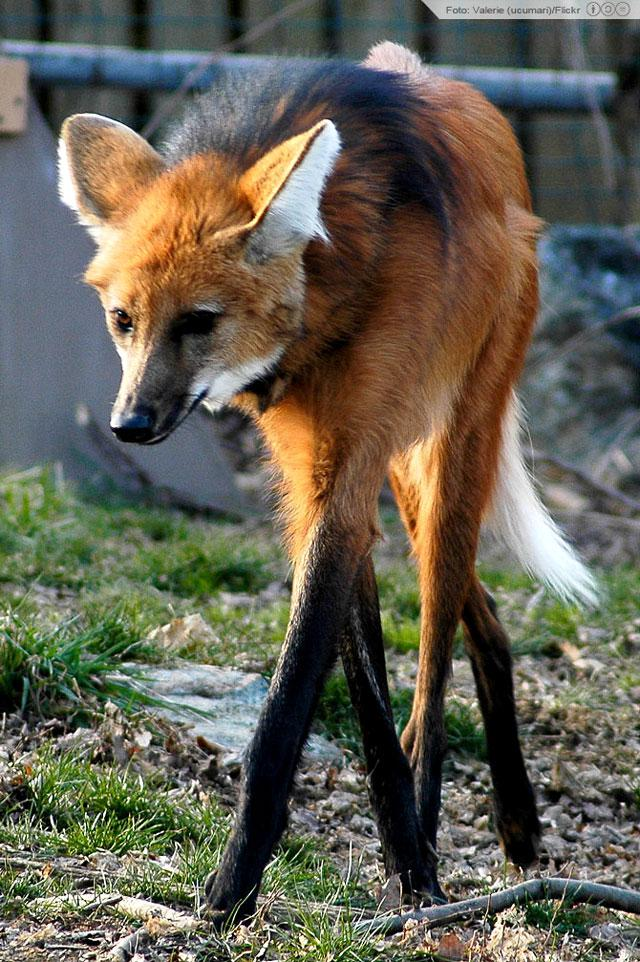LoboGuara: (7, 30, 611, 948)
